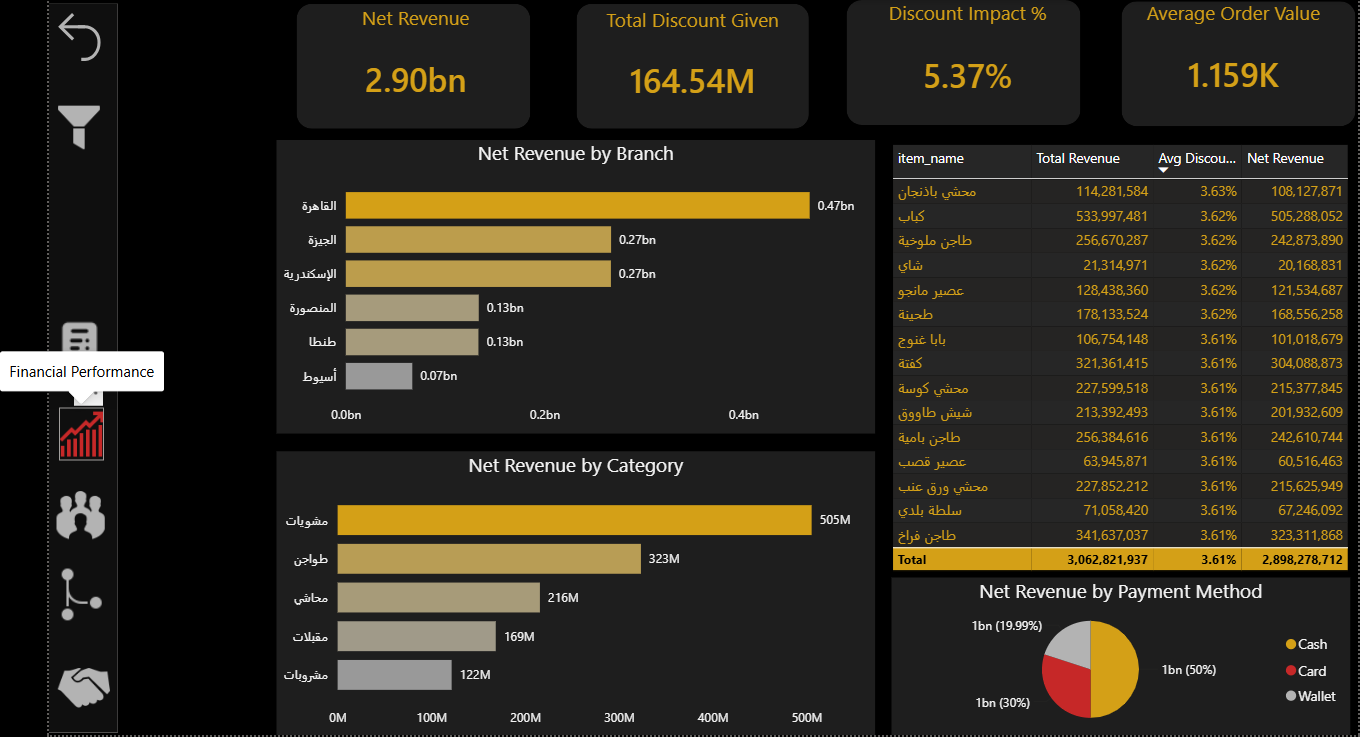

What the dashboard file says about the page in this screenshot:
{"tool":"powerbi","page":{"name":"Financial Performance","canvas":[1280,720],"ordinal":1},"visuals":[{"type":"group","id":"g1","title":"KPIs","box":[241.8,0,1036.7,128.4],"z":0},{"type":"group","id":"g2","title":"KPIs backgroud","box":[241.8,0.2,1036.7,126.2],"z":0,"group":"g1"},{"type":"shape","title":"Left","box":[0,3.7,67.3,712.9],"z":0,"group":"g4"},{"type":"shape","box":[241.8,4.1,228.7,122.3],"z":0,"group":"g2"},{"type":"card","title":"Total Discount Given","fields":{"Values":["Table_Measures.Total Discount Given"]},"box":[515.2,6.1,227.4,122.3],"z":0,"group":"g3"},{"type":"group","id":"g3","title":"KPIs Values","box":[245.3,0,1024.4,128.4],"z":1000,"group":"g1"},{"type":"shape","box":[515.3,4.1,227.6,122.3],"z":1000,"group":"g2"},{"type":"card","title":"Net Revenue","fields":{"Values":["Table_Measures.Net Revenue"]},"box":[245.3,4.3,226.1,122.3],"z":1000,"group":"g3"},{"type":"image","box":[0,302.6,59.9,68.5],"z":1000,"group":"g4"},{"type":"clusteredBarChart","title":"Net Revenue by Category","fields":{"Category":["resturant_final.category"],"Y":["Table_Measures.Net Revenue"]},"box":[222.6,441.4,585.7,278.8],"z":1000},{"type":"card","title":"Discount Impact %","fields":{"Values":["Table_Measures.Discount Impact %"]},"box":[785.4,0,225,123.5],"z":2000,"group":"g3"},{"type":"shape","box":[779.6,0.2,229,122.3],"z":2000,"group":"g2"},{"type":"clusteredBarChart","title":"Net Revenue by Branch","fields":{"Category":["resturant_final.branch"],"Y":["Table_Measures.Net Revenue"]},"box":[222.6,137,585.7,287.4],"z":2000},{"type":"image","box":[7.3,471.1,47.5,66.1],"z":2000,"group":"g4"},{"type":"card","title":"Average Order Value","fields":{"Values":["Table_Measures.Average Order Value"]},"box":[1045.9,0,223.8,122.3],"z":3000,"group":"g3"},{"type":"shape","box":[1049.5,2,229,122.3],"z":3000,"group":"g2"},{"type":"image","box":[9.7,398.9,43.9,51.4],"z":3000,"group":"g4"},{"type":"pieChart","title":"Net Revenue by Payment Method","fields":{"Category":["resturant_final.payment_method"],"Y":["Table_Measures.Net Revenue"]},"box":[824.2,564.9,448.8,155.3],"z":3000},{"type":"tableEx","fields":{"Values":["resturant_final.item_name","Table_Measures.Total Revenue","Table_Measures.Avg Discount % by Item","Table_Measures.Net Revenue"]},"box":[818.8,137.5,461.2,427.5],"z":4000},{"type":"image","box":[6.1,645,56,52.6],"z":4000,"group":"g4"},{"type":"group","id":"g4","title":"Navigation buttons","box":[0,3.7,67.3,712.9],"z":5000},{"type":"image","box":[0,553.2,63.4,57.5],"z":5000,"group":"g4"},{"type":"image","title":"filter","box":[6.1,101.9,46.5,46.5],"z":6000,"group":"g4"},{"type":"actionButton","box":[0,6.2,67.3,60],"z":7000,"group":"g4"}]}

Visuals, with their boxes on the page's 1280x720 design canvas (x1, y1, x2, y2). These are canvas units, not pixel positions in the 1360x737 screenshot, which may show the page scaled, cropped or inside an application window:
"KPIs" group: [242,0,1278,128]
"KPIs backgroud" group: [242,0,1278,126]
"Left" shape: [0,4,67,717]
shape: [242,4,470,126]
"Total Discount Given" card: [515,6,743,128]
"KPIs Values" group: [245,0,1270,128]
shape: [515,4,743,126]
"Net Revenue" card: [245,4,471,127]
image: [0,303,60,371]
"Net Revenue by Category" clusteredBarChart: [223,441,808,720]
"Discount Impact %" card: [785,0,1010,124]
shape: [780,0,1009,122]
"Net Revenue by Branch" clusteredBarChart: [223,137,808,424]
image: [7,471,55,537]
"Average Order Value" card: [1046,0,1270,122]
shape: [1050,2,1278,124]
image: [10,399,54,450]
"Net Revenue by Payment Method" pieChart: [824,565,1273,720]
tableEx - resturant_final.item_name x Table_Measures.Total Revenue: [819,138,1280,565]
image: [6,645,62,698]
"Navigation buttons" group: [0,4,67,717]
image: [0,553,63,611]
"filter" image: [6,102,53,148]
actionButton: [0,6,67,66]
